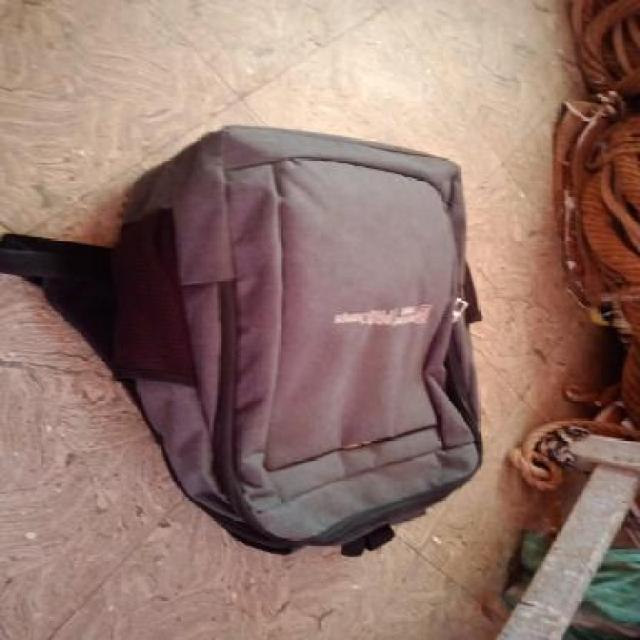backpack: (105, 119, 489, 563)
